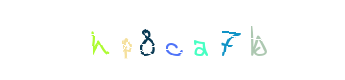7: (165, 0, 245, 80)
8: (106, 0, 186, 80)
A: (161, 0, 241, 80)
B: (187, 0, 267, 80)
C: (132, 0, 212, 80)
H: (57, 0, 137, 80)
P: (77, 0, 157, 80)
